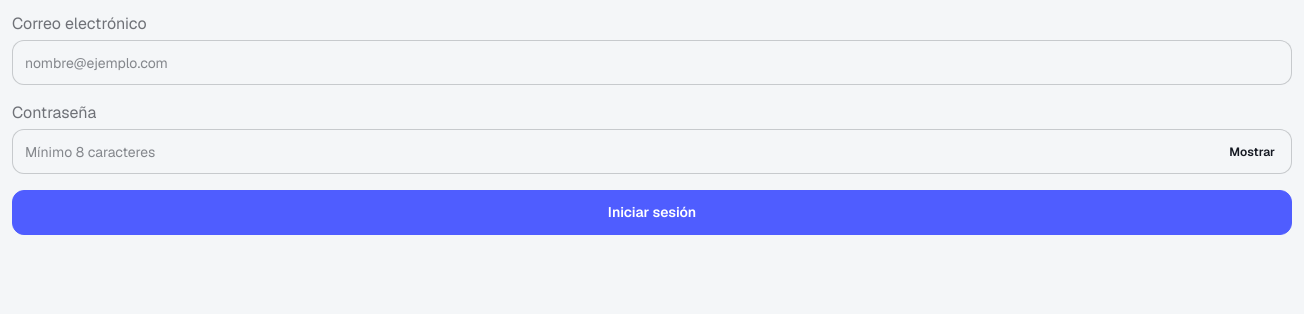
LoginForm › muestra un mensaje genérico ante credenciales inválidas (401)
Type "ana@example.com" into the field labelled "Correo electrónico".
click(652, 62); type("ana@example.com")  # box left=12, top=40, right=1292, bottom=85
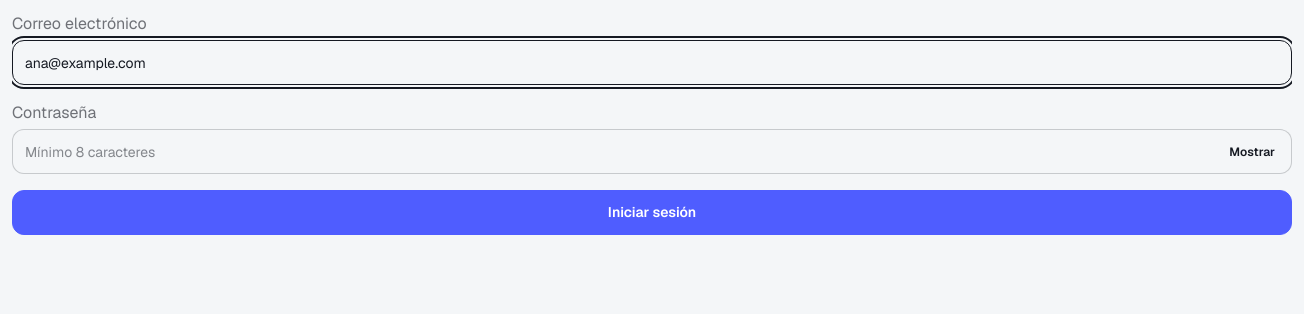
Type "12345678" into the password field labelled "Contraseña".
click(652, 152); type("12345678")  # box left=12, top=129, right=1292, bottom=174
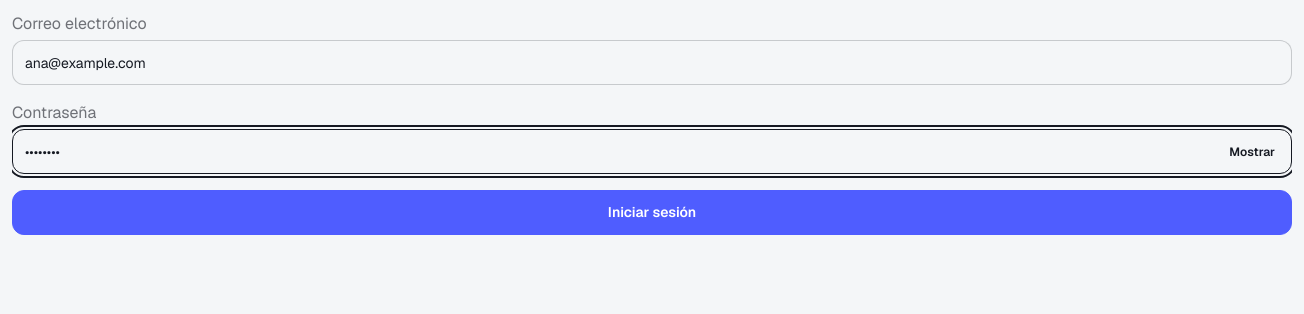
Click the button "Iniciar sesión".
click(652, 212)  # box left=12, top=190, right=1292, bottom=235
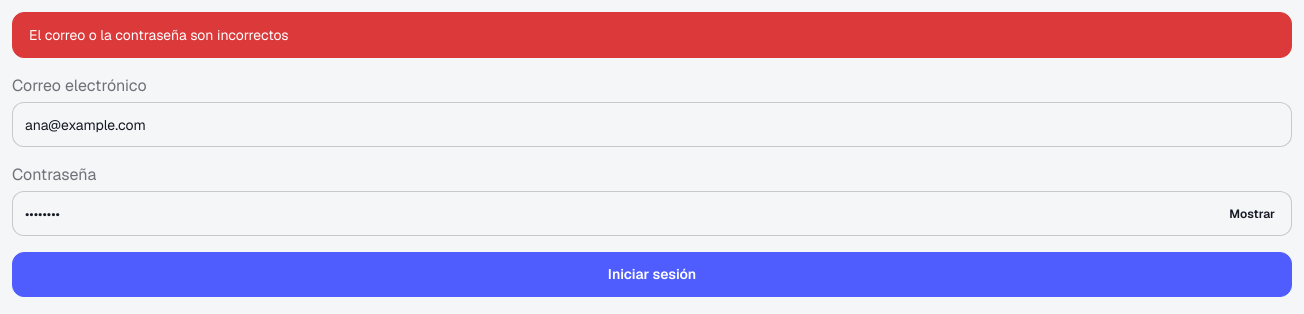
expect the text "El correo o la contraseña son incorrectos" is shown: met, box left=12, top=12, right=1292, bottom=58
